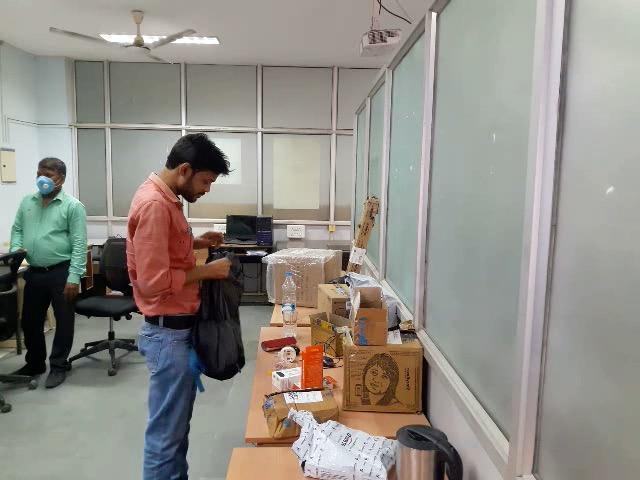Normal: (119, 126, 263, 480)
